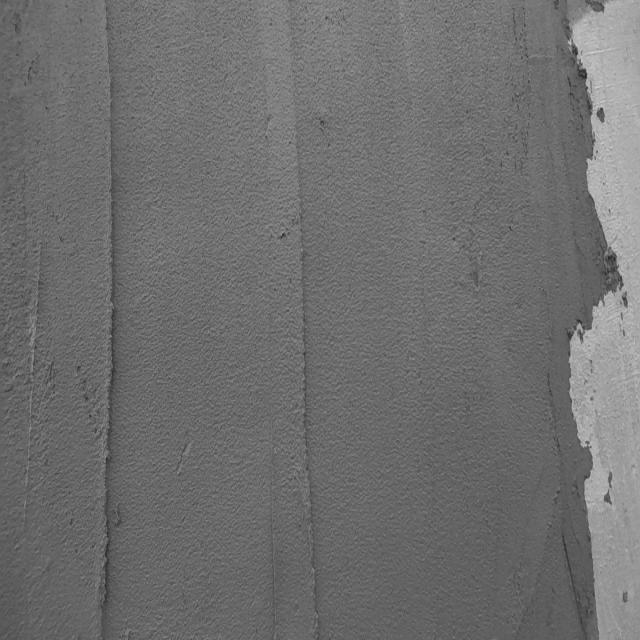trowels marks: (285, 20, 330, 640), (96, 8, 125, 640), (470, 256, 486, 296)
